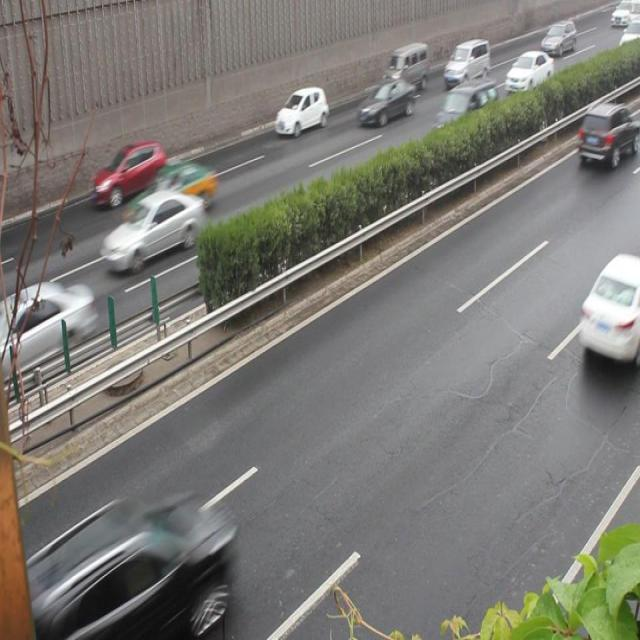car: (60, 500, 233, 640), (1, 280, 94, 379), (100, 190, 202, 274), (576, 254, 640, 362), (120, 162, 216, 230), (92, 138, 166, 206), (576, 100, 631, 170), (275, 84, 328, 136), (357, 79, 414, 126), (504, 49, 552, 97)
truck: (431, 78, 495, 141), (380, 42, 429, 92), (442, 37, 489, 86)
